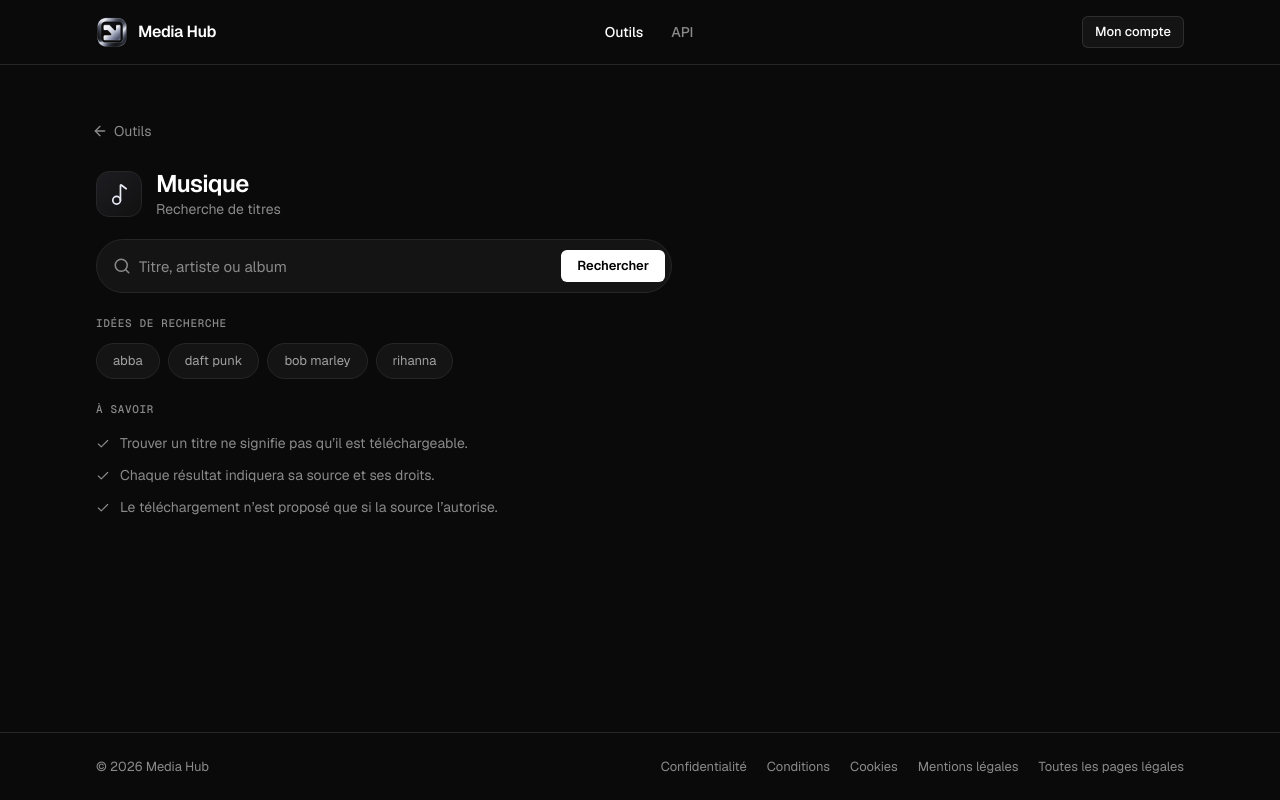
page d’un outil › musique : liste les résultats
Type "abba" into the search field named "Recherche" at (346, 266), box [139, 240, 553, 292]
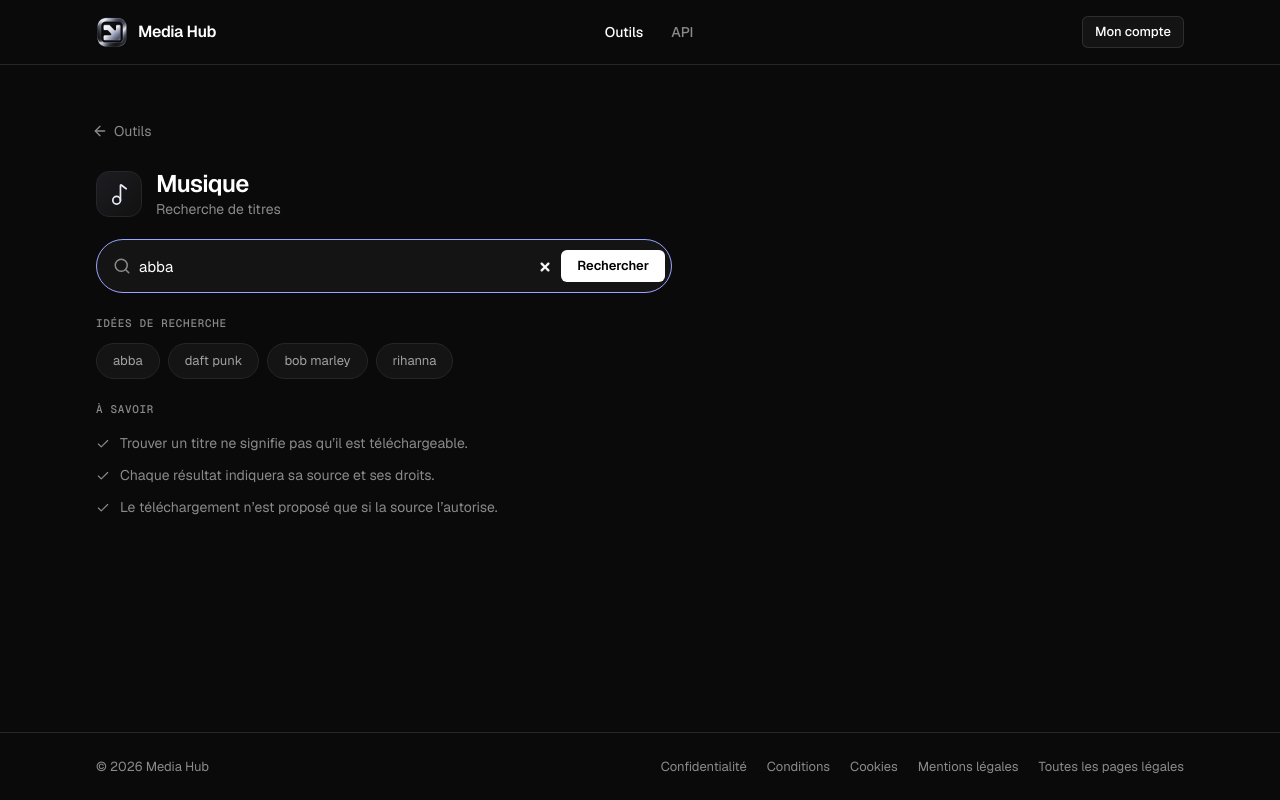
Click the button "Rechercher" at (613, 266), box [561, 250, 665, 282]
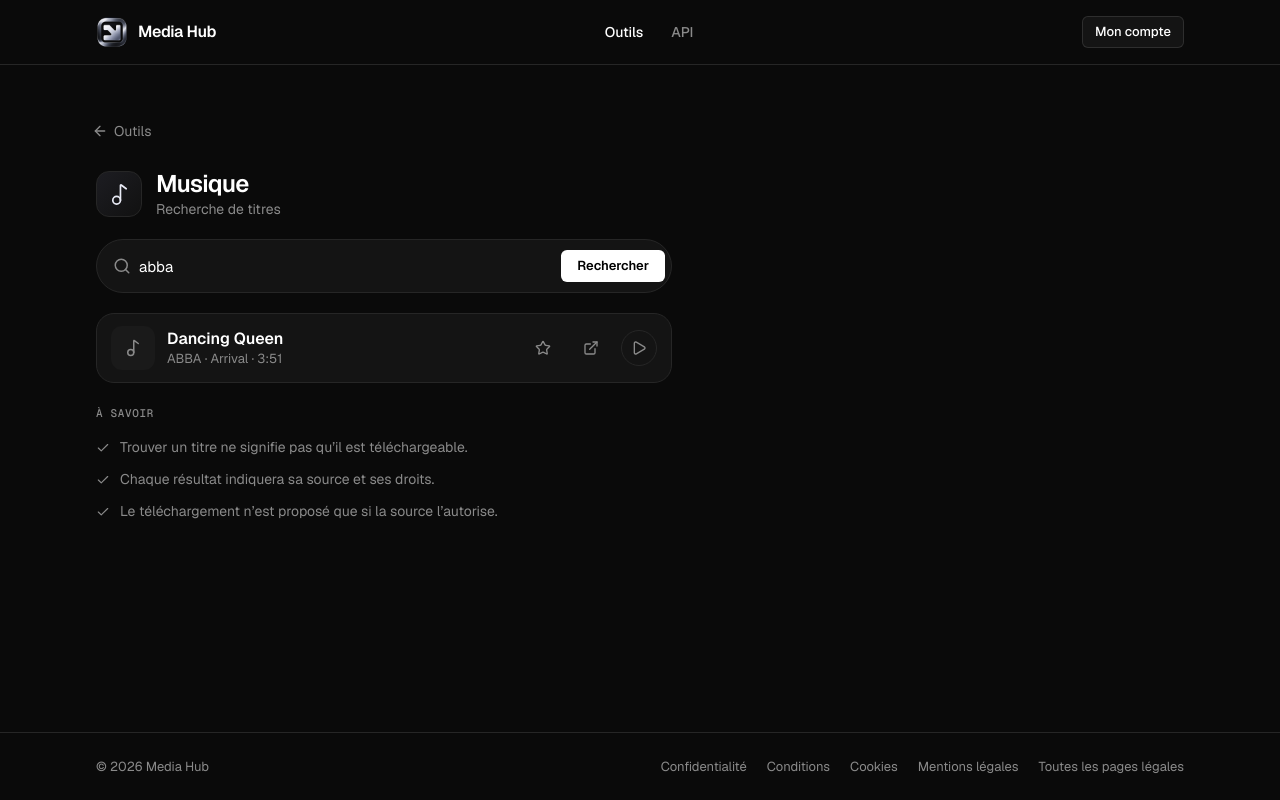
Now the text "Dancing Queen" is shown, box [167, 328, 283, 349]
Now the text "ABBA · Arrival · 3:51" is shown, box [167, 350, 282, 367]
Now the button named "aperçu de Dancing Queen" is shown, box [621, 330, 657, 366]
